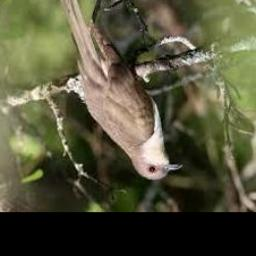Cuckoo: (46, 0, 182, 181)
